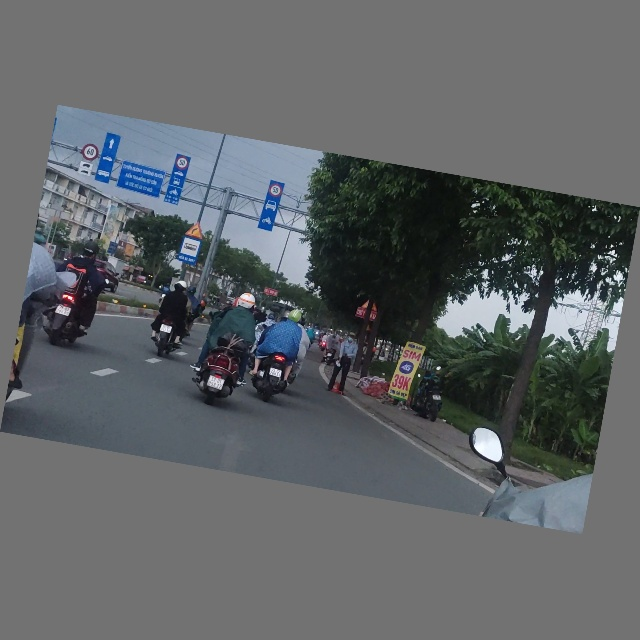I.434a: (177, 235, 202, 265)
P.127*50: (175, 155, 190, 171), (268, 183, 283, 198)
P.127*60: (80, 142, 100, 162)
S.505a*Xe tai va cong: (77, 161, 93, 177)
W.201b: (184, 220, 205, 240)
